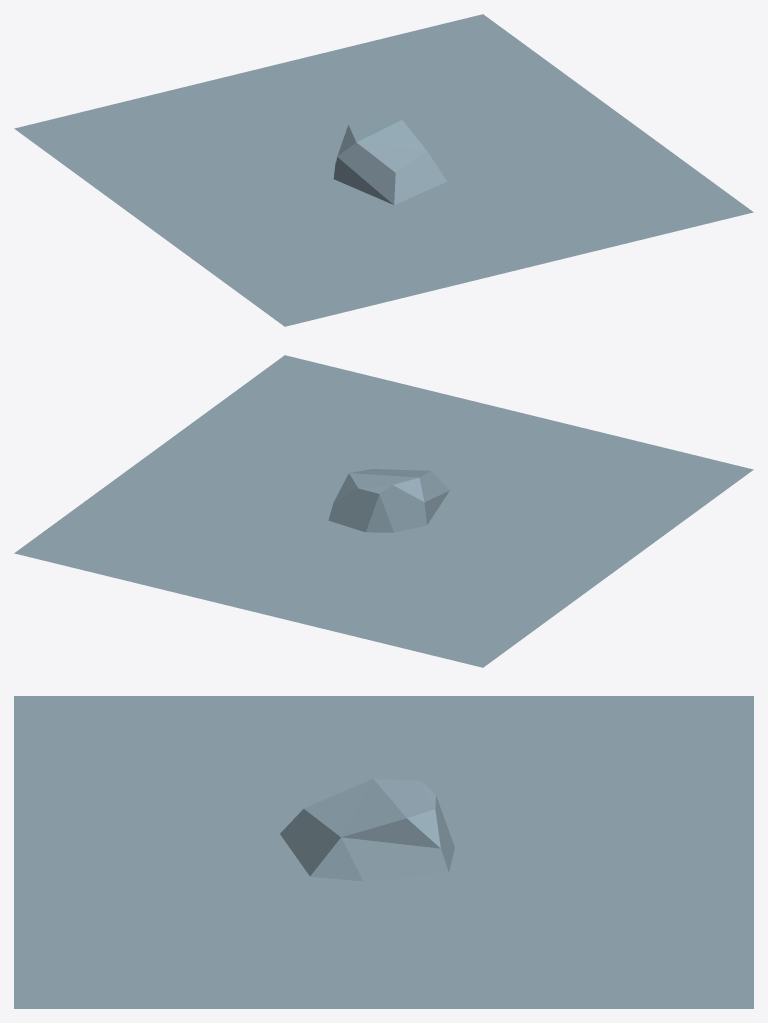
File: Tile 58_Combined.fbx
The picture shows the model from 3 angles, top to bottom: view 1: azimuth 30°, elevation 25°; view 2: azimuth 150°, elevation 25°; view 3: azimuth 270°, elevation 25°; orthographic projection. The views are drawn at different scales.
Visible parts, largest first — view 1: MeshBaker_mesh_mesh; view 2: MeshBaker_mesh_mesh; view 3: MeshBaker_mesh_mesh.
Part boxes in pixels (left/top/right/bottom): MeshBaker_mesh_mesh: left=14, top=14, right=753, bottom=326; MeshBaker_mesh_mesh: left=14, top=355, right=753, bottom=667; MeshBaker_mesh_mesh: left=14, top=696, right=753, bottom=1008.
Bounding box in the file's own units: 3000 × 255 × 3000.
